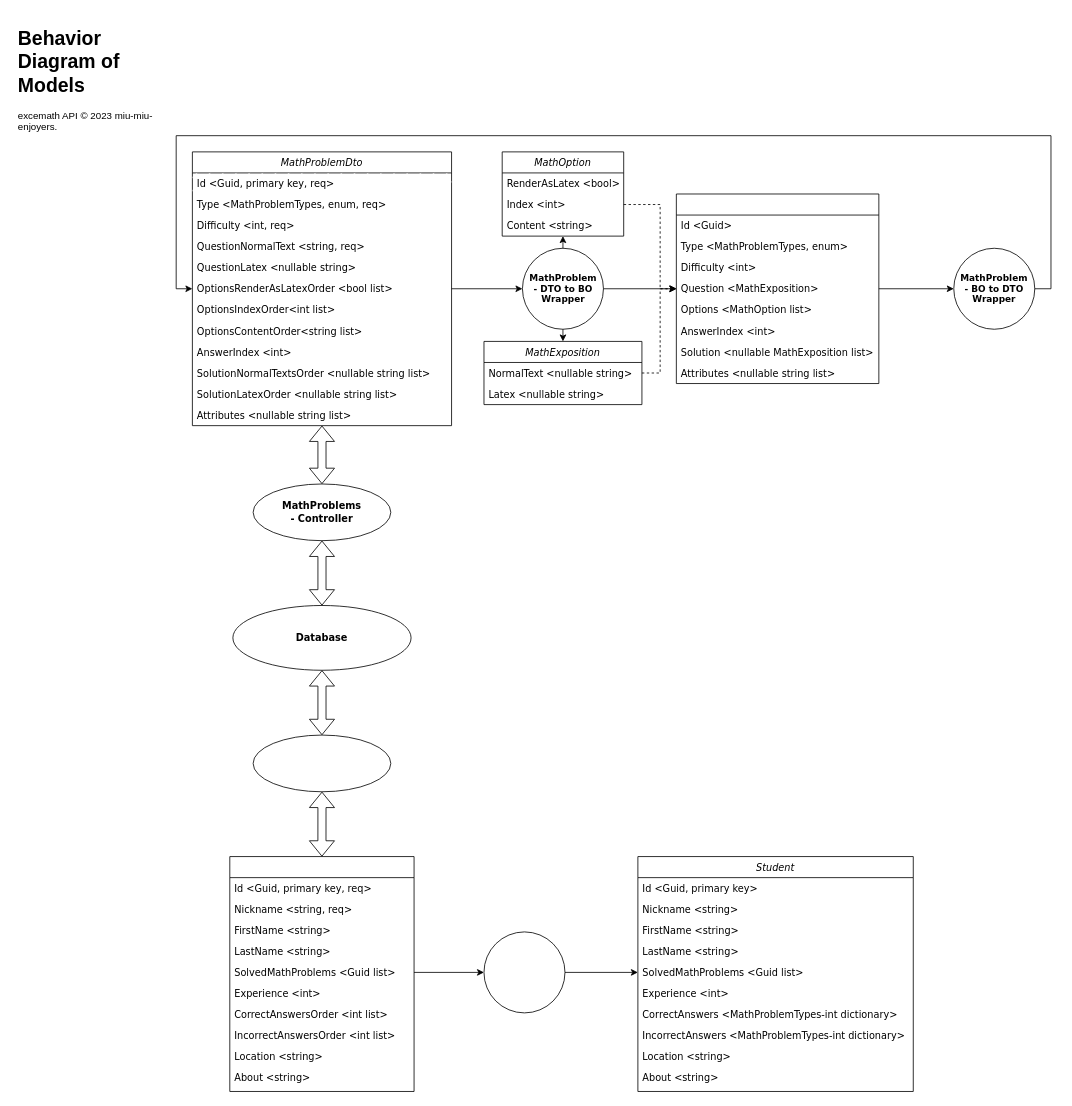
Image size: 1072x1106. Some labels were removed from this diagram. The shapes that lost their labels are listed below. From the top down, each one's box as (x1, y1, x2, y2) in pixels, then its label:
(676, 193, 879, 384): MathProblem
(252, 734, 391, 792): Students - Controller
(229, 856, 414, 1091): StudentDto
(483, 931, 565, 1013): Student - DTO to BO Converter
